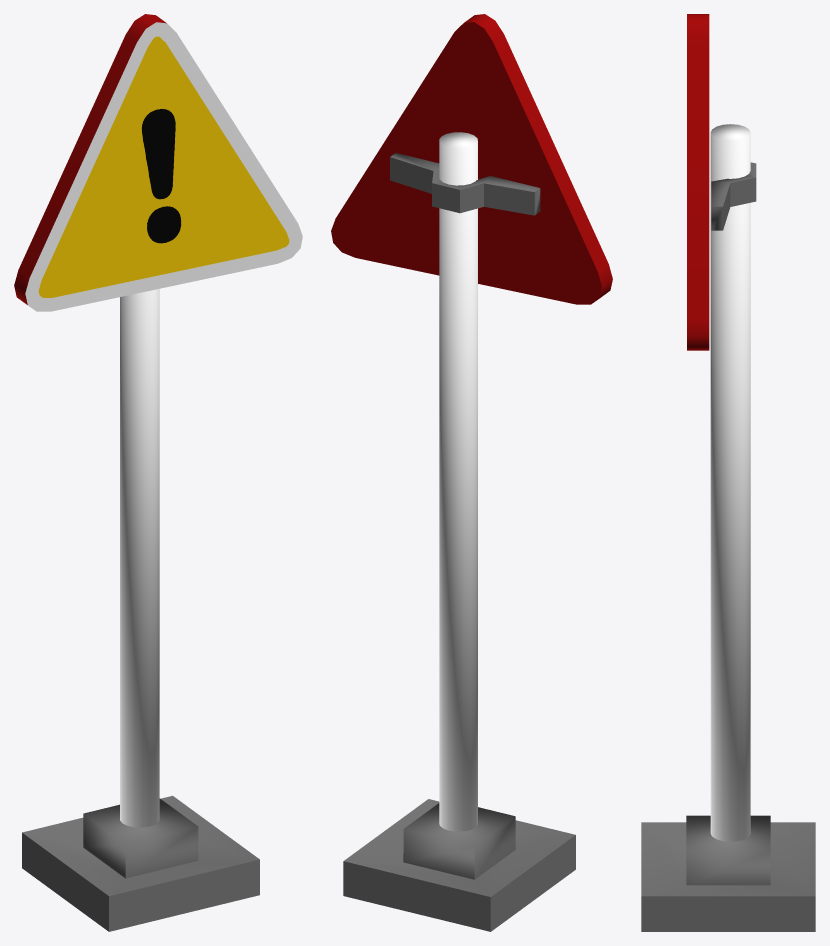
Rendered from Sign_2.fbx.
The picture shows the model from 3 angles, left to right: view 1: azimuth 30°, elevation 25°; view 2: azimuth 150°, elevation 25°; view 3: azimuth 270°, elevation 25°; orthographic projection. The views are drawn at different scales.
Parts seen in each view (by area): view 1: Sign_2; view 2: Sign_2; view 3: Sign_2.
Part boxes in pixels (x1=…): Sign_2: x1=14, y1=14, x2=302, y2=931; Sign_2: x1=331, y1=14, x2=612, y2=931; Sign_2: x1=641, y1=14, x2=815, y2=931.
Bounding box in the file's own units: 1.08 × 0.5853 × 3.25.
